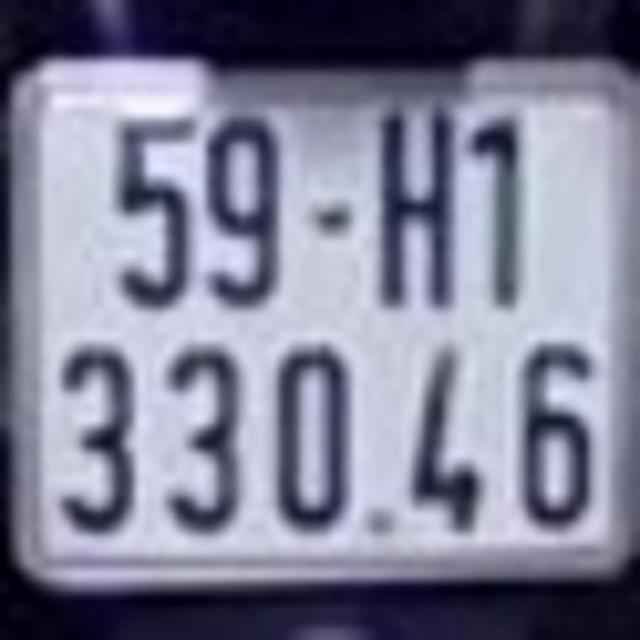0: (273, 331, 353, 535)
1: (466, 104, 529, 316)
3: (56, 326, 144, 540), (164, 329, 243, 537)
4: (408, 332, 482, 540)
5: (116, 104, 194, 311)
6: (520, 332, 597, 530)
9: (205, 100, 279, 311)
H: (376, 100, 459, 316)
